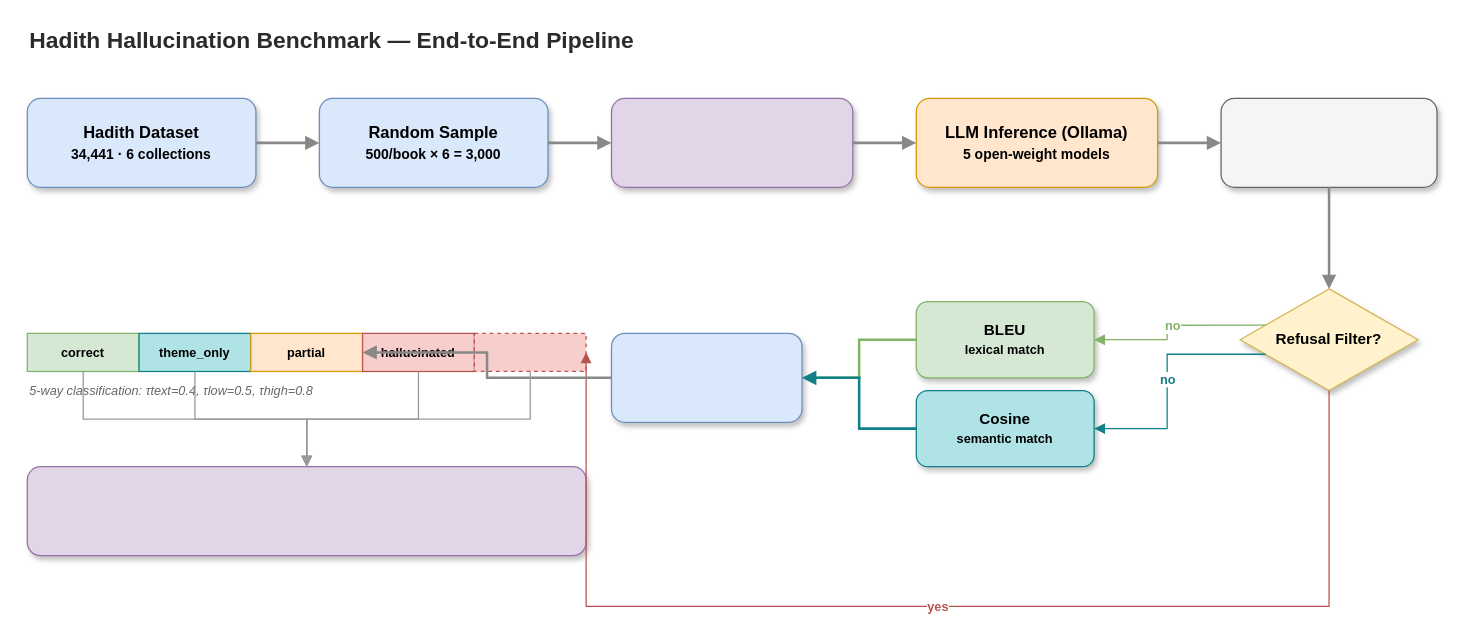
Image size: 1467x639. Some labels were removed from this diagram. Each missing label, with the centre of its shape:
Aggregated Results per model × lang × collection: the point at 307,512
Classify: the point at 707,379
Model Response: the point at 1330,144
Reference-Only Prompt EN + AR, no retrieval: the point at 732,144
refused: the point at 529,351
